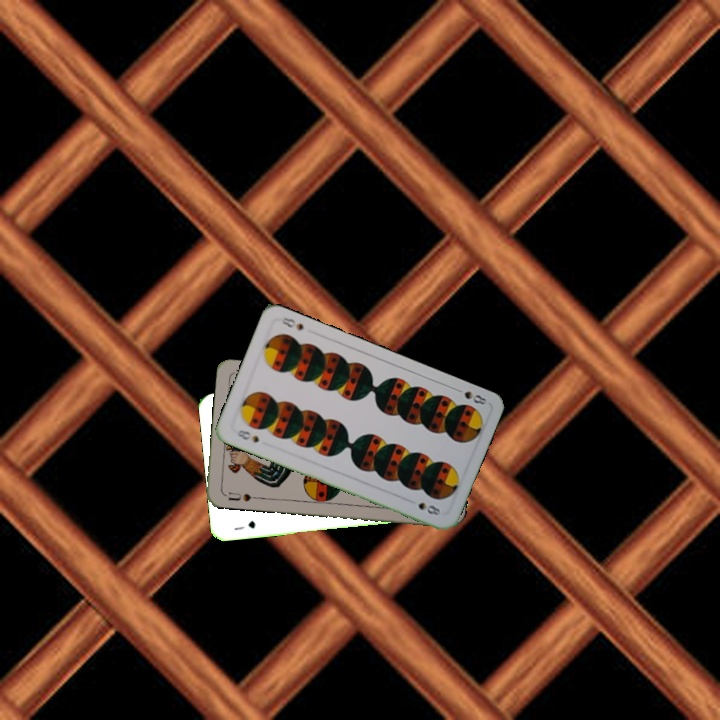GU: (230, 517, 258, 533)
S8: (450, 384, 489, 407), (233, 426, 261, 446)
SU: (220, 488, 261, 504)
